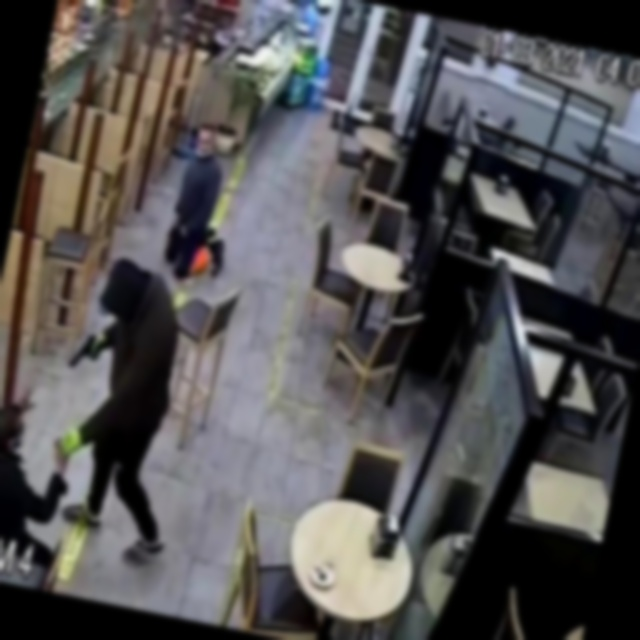gun: (57, 319, 108, 392)
